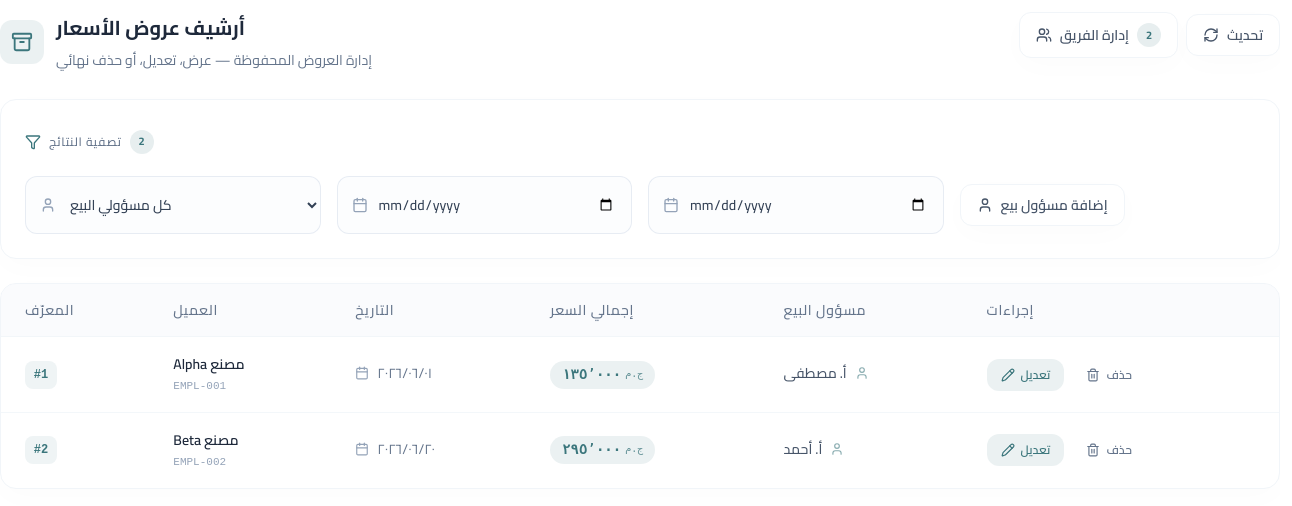
Scenario: ArchivedQuotesList filtering › requests filtered data when salesperson dropdown changes
Expected: the text "مصنع Beta" is shown, [173,427,238,453]
Step 1. Select "أ. مصطفى" in the dropdown named "مسؤول البيع" → (173, 205), box [26,177,320,233]
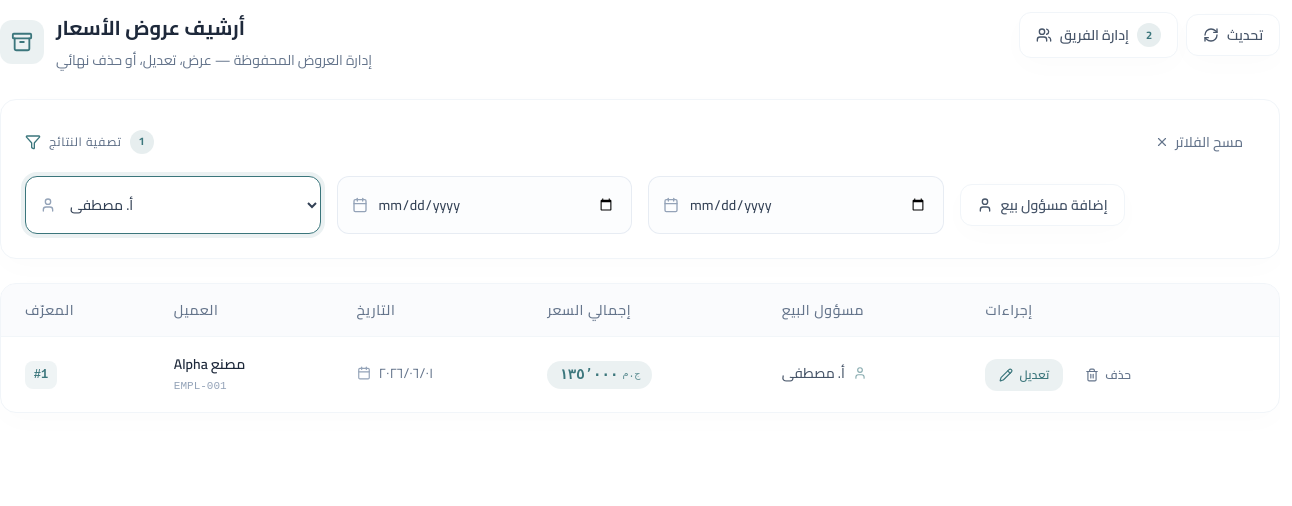
Expected: the text "مصنع Alpha" is shown, [174,351,245,377]
Result: the text "مصنع Beta" is gone
